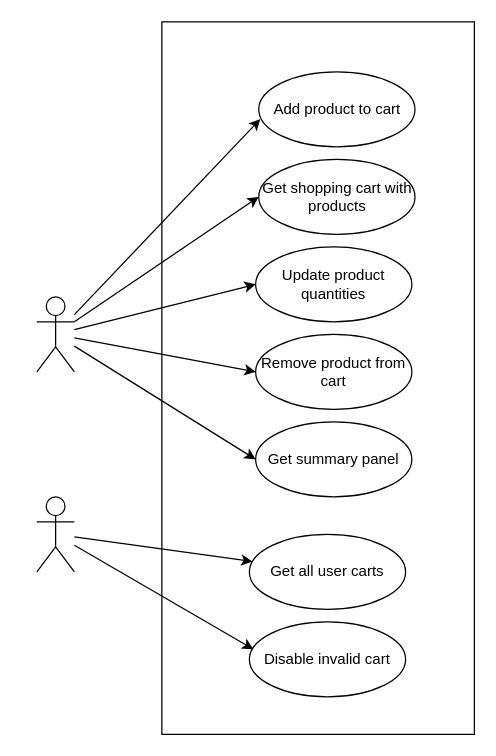
Some shapes in this 496 by 756 pixel diagram are drawn without their labels. The shapes that lost their labels are listed below. From the top down, each one's centre as x and y in pixels, then its label:
At (55,334): "Buyer".
At (55,534): "SysAdmin".
